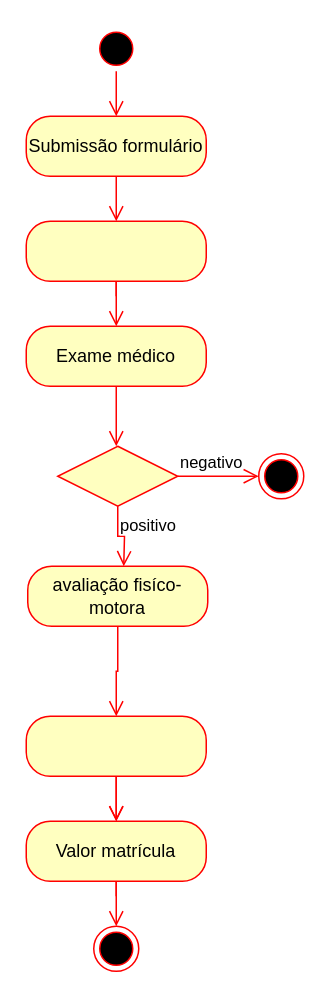
This 330x998 diagram has some shape labels left out. The centre of each missing label's shape, as x and y in pixels:
Pagamento da taxa: (x=115, y=250)
Programa personalizado de treino: (x=115, y=745)
